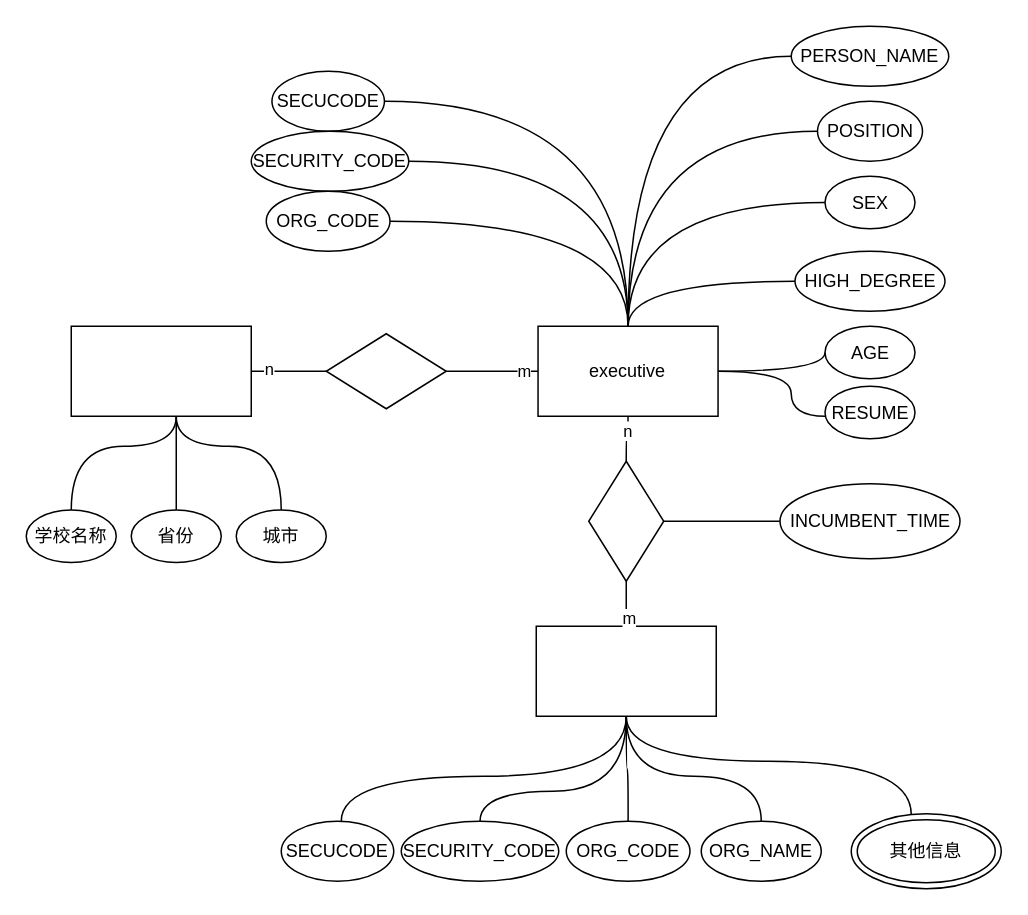
The diagram is 1028 pixels wide and 915 high, and some of its shapes have lost their labels. Here are the shapes that lost their labels. From the top down, the centre of each, then its label:
At (160,370): "university".
At (385,370): "校友".
At (625,520): "就职".
At (625,670): "company".
